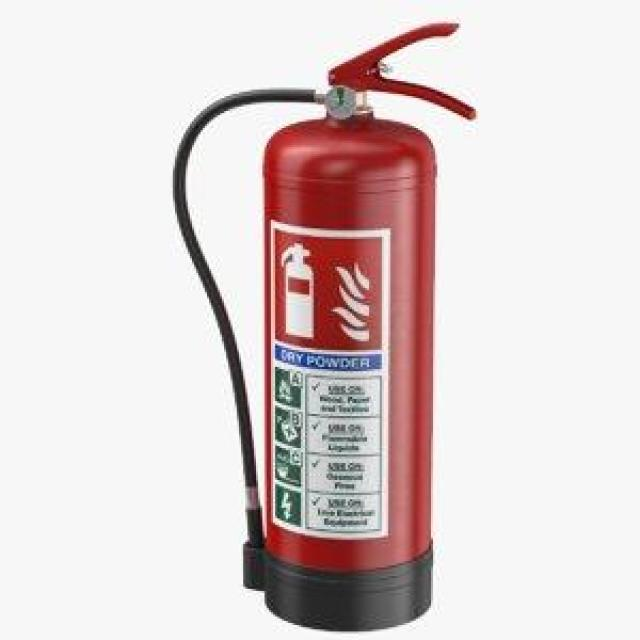fire_extinguisher: (164, 13, 486, 638)
